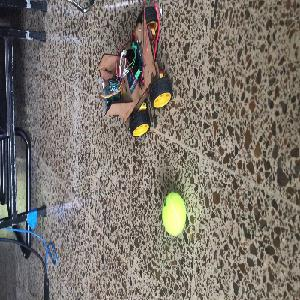Ball: (161, 191, 187, 236)
Robot: (95, 6, 171, 138)
